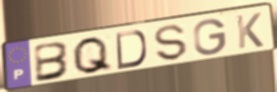B: (33, 40, 72, 84)
D: (114, 29, 149, 71)
G: (192, 18, 228, 57)
K: (234, 11, 265, 51)
Q: (71, 35, 115, 76)
S: (153, 23, 190, 62)
